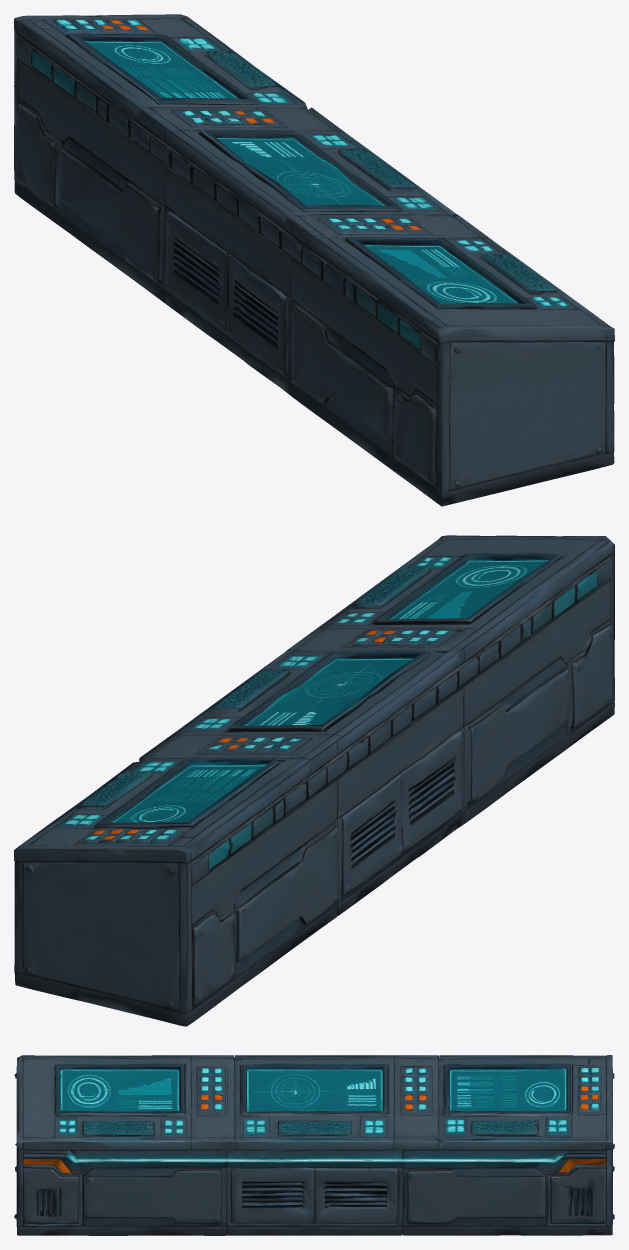
File: prop_desk.glb
The picture shows the model from 3 angles, top to bottom: view 1: azimuth 30°, elevation 25°; view 2: azimuth 150°, elevation 25°; view 3: azimuth 270°, elevation 25°; orthographic projection. The views are drawn at different scales.
Visible parts, largest first — view 1: tripo_node_531f6442-8ca1-4d1f-bee1-5aa028209081; view 2: tripo_node_531f6442-8ca1-4d1f-bee1-5aa028209081; view 3: tripo_node_531f6442-8ca1-4d1f-bee1-5aa028209081.
Part boxes in pixels (x1,y1,x2,y2): tripo_node_531f6442-8ca1-4d1f-bee1-5aa028209081: (14,14,614,506); tripo_node_531f6442-8ca1-4d1f-bee1-5aa028209081: (14,535,614,1026); tripo_node_531f6442-8ca1-4d1f-bee1-5aa028209081: (14,1055,614,1235).
Size of the model in its own units: 0.2405 by 0.2227 by 0.9824.
1 material, 1 textured.
